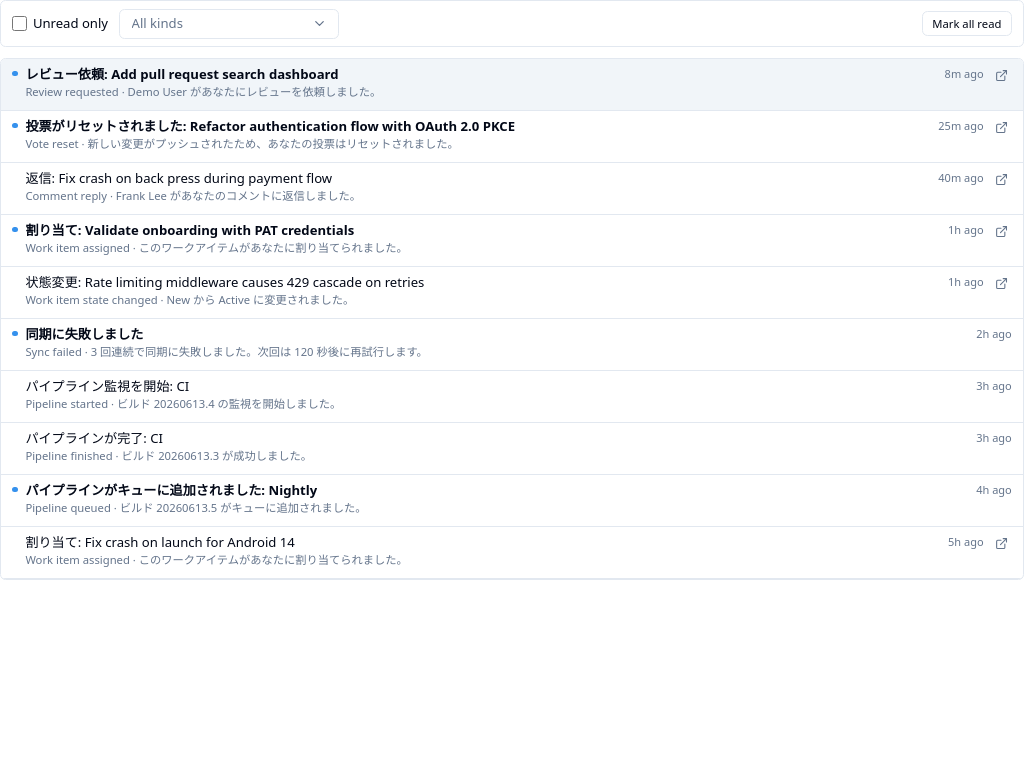
NotificationsView › filters to unread-only notifications
What coordinates should you click on to do the following:
click the checkbox labelled "Unread only"
I would click on:
 (20, 24)
Its box is [12,16,27,31].
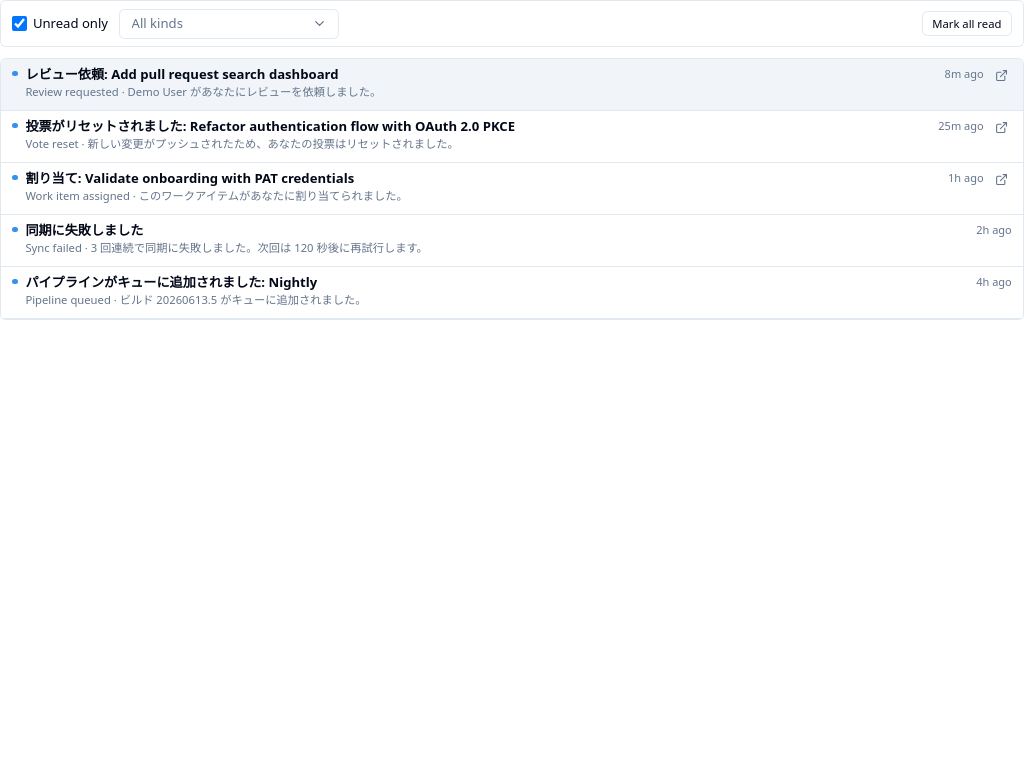
expect the 1st row is shown: met, box [1,59,1023,111]
What coordinates should you click on to do the following:
click the checkbox labelled "Unread only"
I would click on:
 (20, 24)
Its box is [12,16,27,31].
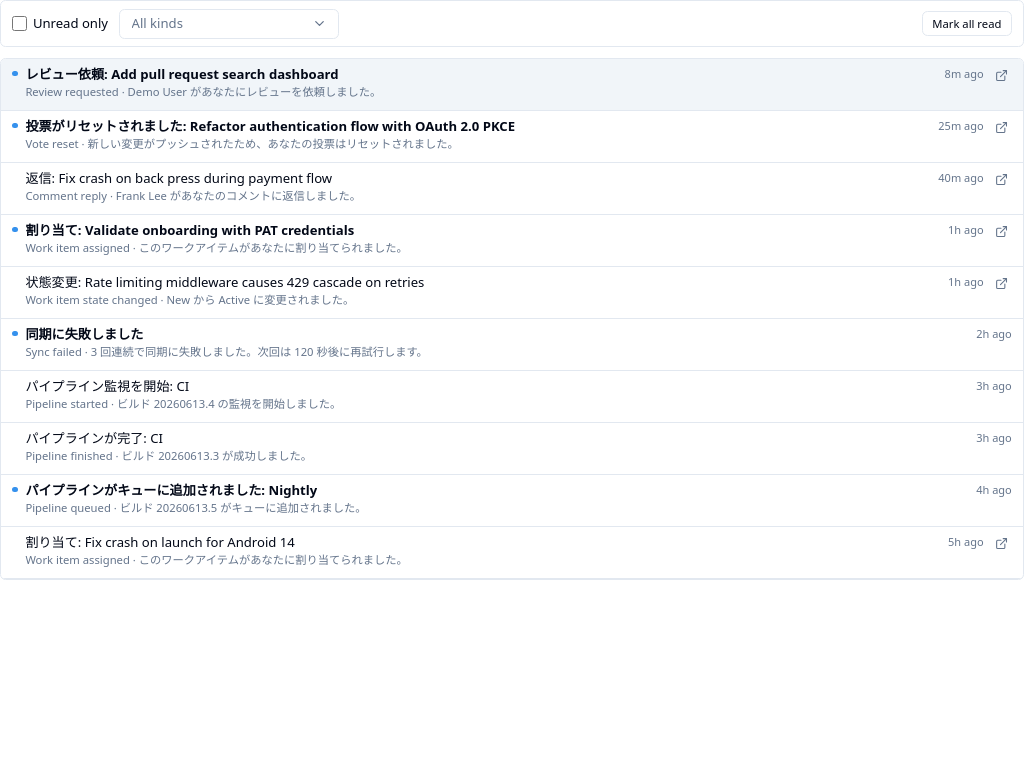
expect the number of rows is 10: met
